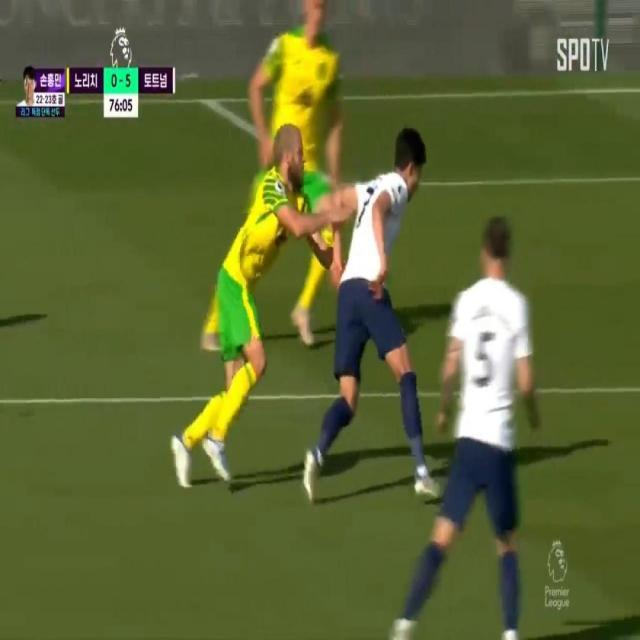player: (169, 120, 317, 505), (330, 118, 440, 495), (447, 203, 534, 640), (263, 0, 347, 343)
